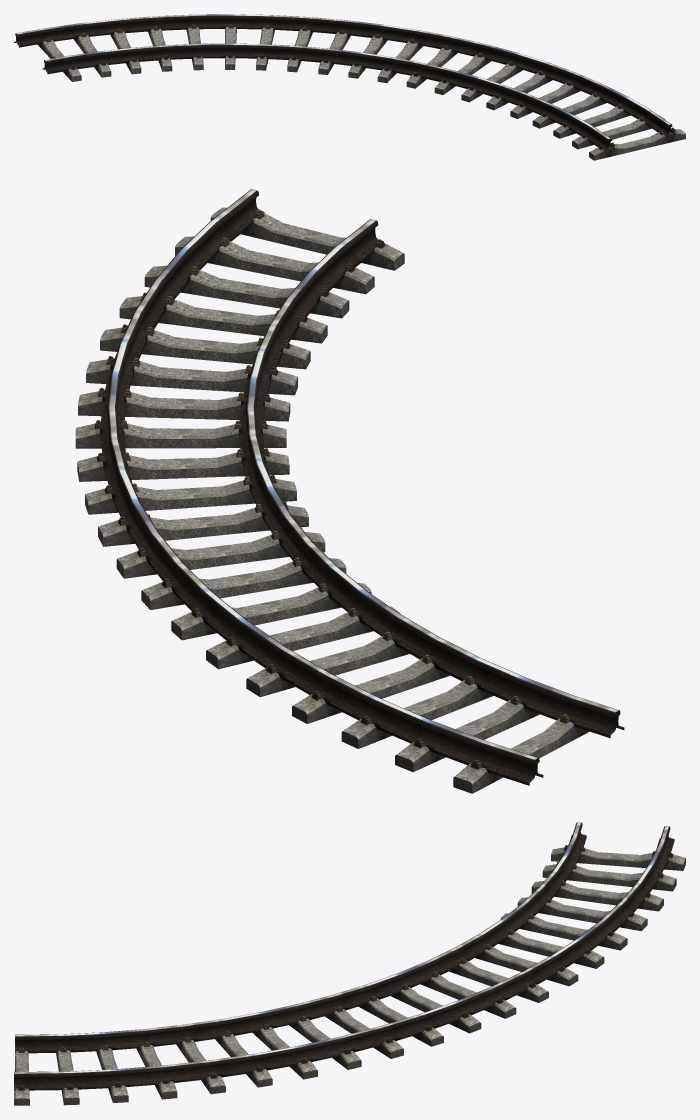
Rendered from Beton_rail_85.FBX.
3 renders of one model, top to bottom at view 1: azimuth 30°, elevation 25°; view 2: azimuth 150°, elevation 25°; view 3: azimuth 270°, elevation 25°, orthographic. The views are drawn at different scales.
Visible parts, largest first — view 1: Beton_rail_85_LOD0; view 2: Beton_rail_85_LOD0; view 3: Beton_rail_85_LOD0.
Boxes of the visible parts, x1,y1,x2,y2 form: Beton_rail_85_LOD0: (14, 14, 685, 160); Beton_rail_85_LOD0: (75, 189, 624, 793); Beton_rail_85_LOD0: (14, 822, 685, 1105).
Size of what is drawn, in the model's own units: 11.58 by 12.61 by 0.4774.
